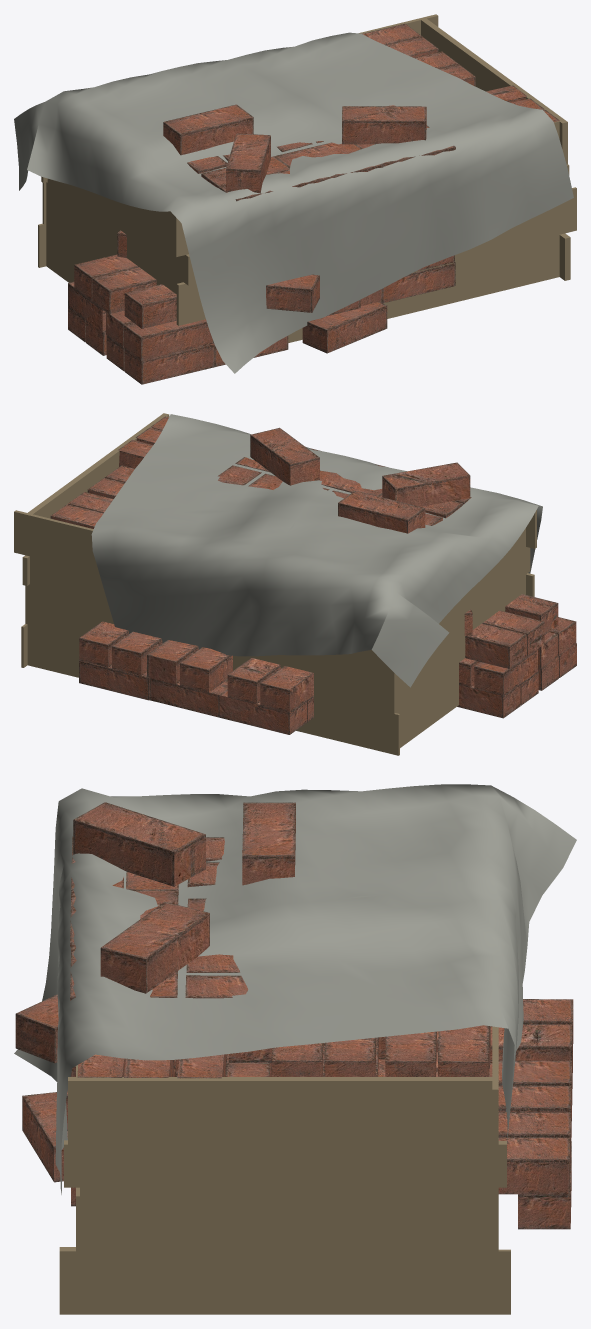
Rendered from Bricks.fbx.
3 renders of one model, top to bottom at view 1: azimuth 30°, elevation 25°; view 2: azimuth 150°, elevation 25°; view 3: azimuth 270°, elevation 25°, orthographic. The views are drawn at different scales.
Visible parts, largest first — view 1: cover, Bricks_Stacked, Brick_pile, Brick_big_pile; view 2: cover, Bricks_Stacked, Brick_big_pile, Brick_pile; view 3: Bricks_Stacked, cover, Brick_big_pile, Brick_pile.
Part boxes in pixels (x1,y1,x2,y2): cover: [14, 32, 573, 373]; Bricks_Stacked: [38, 14, 576, 342]; Brick_pile: [68, 230, 387, 384]; Brick_big_pile: [163, 104, 455, 305]; cover: [91, 414, 542, 687]; Bricks_Stacked: [14, 413, 536, 755]; Brick_big_pile: [79, 427, 471, 734]; Brick_pile: [457, 594, 576, 718]; Bricks_Stacked: [59, 1025, 510, 1314]; cover: [14, 784, 576, 1194]; Brick_big_pile: [70, 802, 573, 1229]; Brick_pile: [15, 994, 67, 1182].
Size of the model in its own units: 55.28 by 22 by 40.89.
